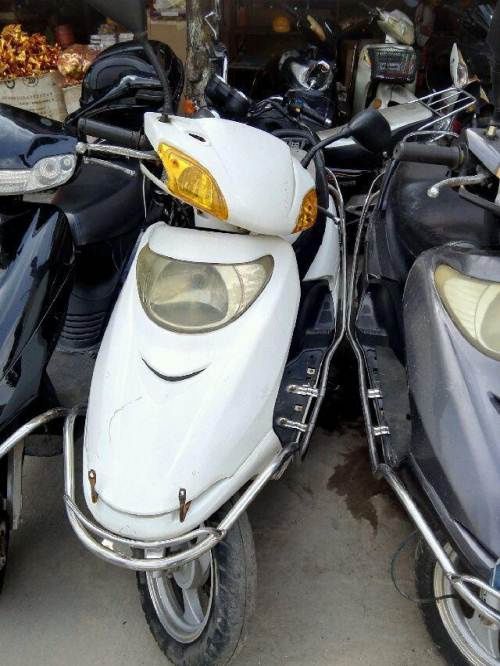non-vehicle: (66, 117, 331, 666), (0, 37, 172, 517), (353, 125, 500, 666)
